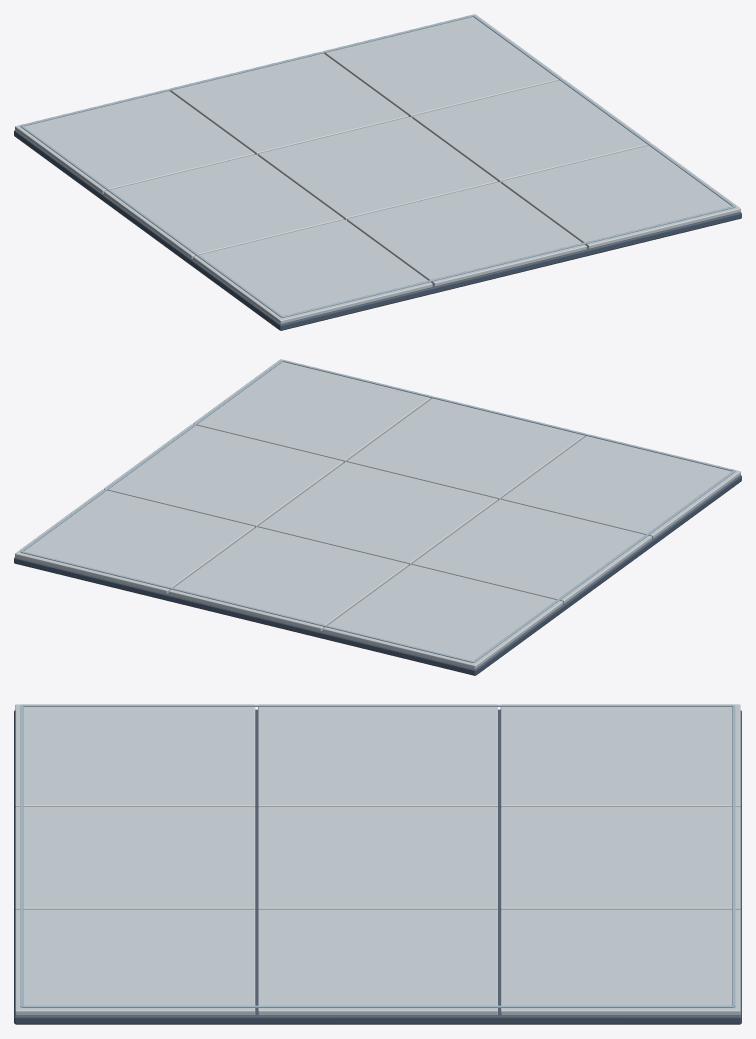
File: moonsteel-convergence-sanctuary-terrace-2bb2d130__18196.glb
3 renders of one model, top to bottom at view 1: azimuth 30°, elevation 25°; view 2: azimuth 150°, elevation 25°; view 3: azimuth 270°, elevation 25°, orthographic. The views are drawn at different scales.
Visible parts, largest first — view 1: sanctuary-terrace; view 2: sanctuary-terrace; view 3: sanctuary-terrace.
Boxes of the visible parts, x1,y1,x2,y2 form: sanctuary-terrace: [14, 14, 741, 330]; sanctuary-terrace: [14, 359, 741, 675]; sanctuary-terrace: [14, 704, 741, 1024].
Bounding box in the file's own units: 12 × 0.2896 × 12.
